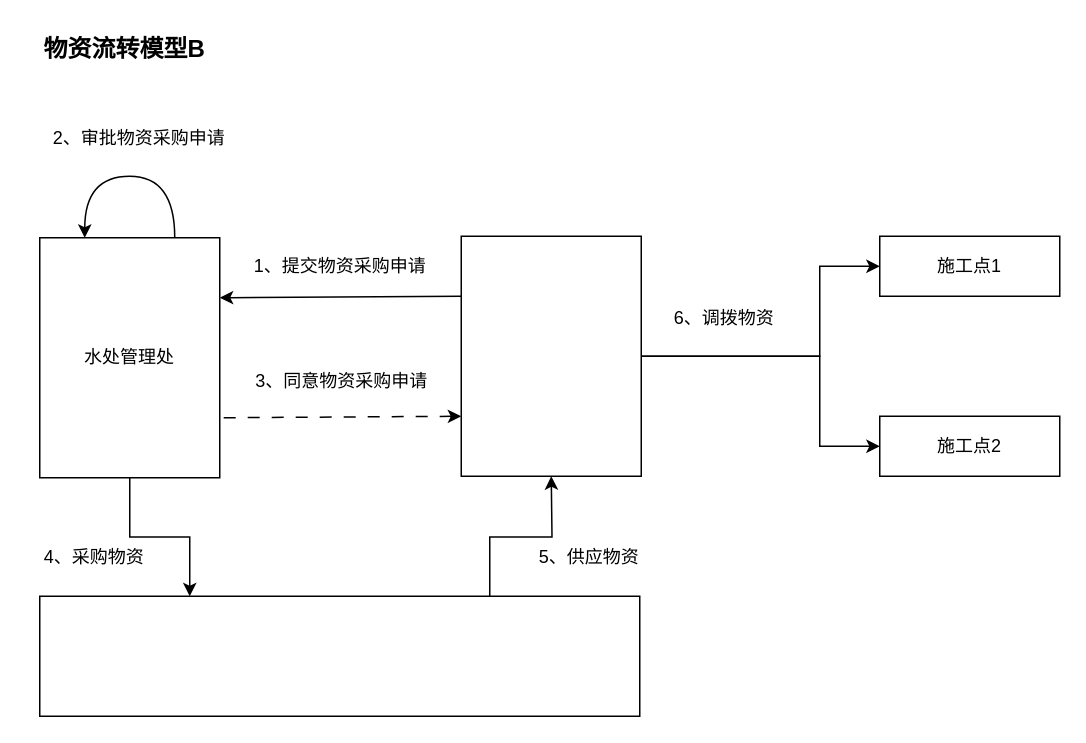
Image size: 1086x743. Some labels were removed from this diagram. Here are the shapes that lost their labels. From the top down, the centre of each, then its label:
At pixel 550 355: "项目部".
At pixel 339 655: "物资供应商".
